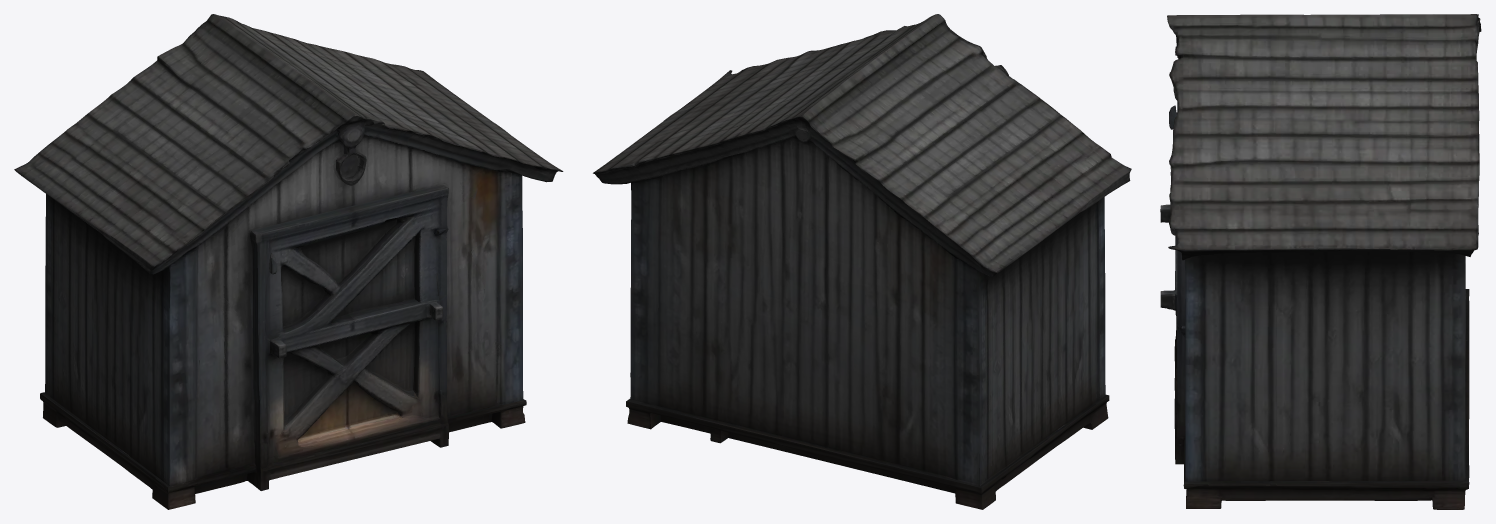
The model's file is shed.glb.
3 views of the same model, side by side, from view 1: azimuth 30°, elevation 25°; view 2: azimuth 150°, elevation 25°; view 3: azimuth 270°, elevation 25° (orthographic). The views are drawn at different scales.
Parts seen in each view (by area): view 1: geometry_0; view 2: geometry_0; view 3: geometry_0.
Part boxes in pixels (left/top/right/bottom): geometry_0: left=14, top=14, right=563, bottom=509; geometry_0: left=593, top=14, right=1131, bottom=509; geometry_0: left=1160, top=14, right=1481, bottom=509.
Bounding box in the file's own units: 0.9902 × 0.8281 × 0.6048.
Materials: 1 (1 with a texture image).
